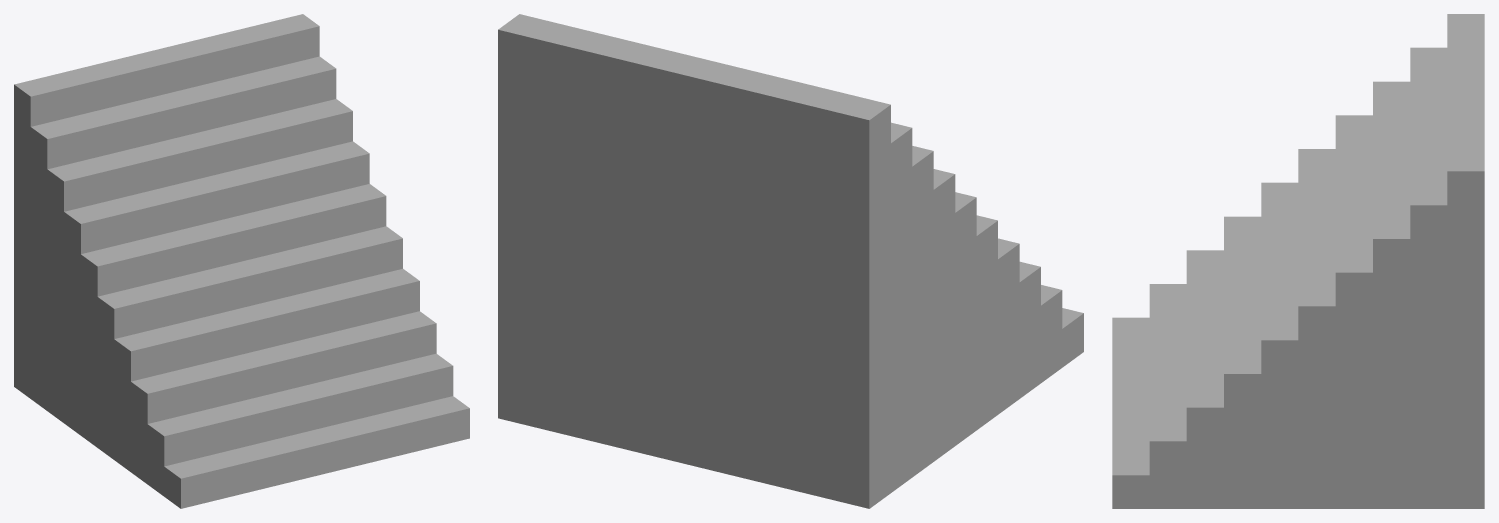
The model's file is path_gray_stair_2.obj.
3 views of the same model, side by side, from view 1: azimuth 30°, elevation 25°; view 2: azimuth 150°, elevation 25°; view 3: azimuth 270°, elevation 25° (orthographic). The views are drawn at different scales.
Bounding box in the file's own units: 2 × 2 × 2.
1 material, 1 textured.
